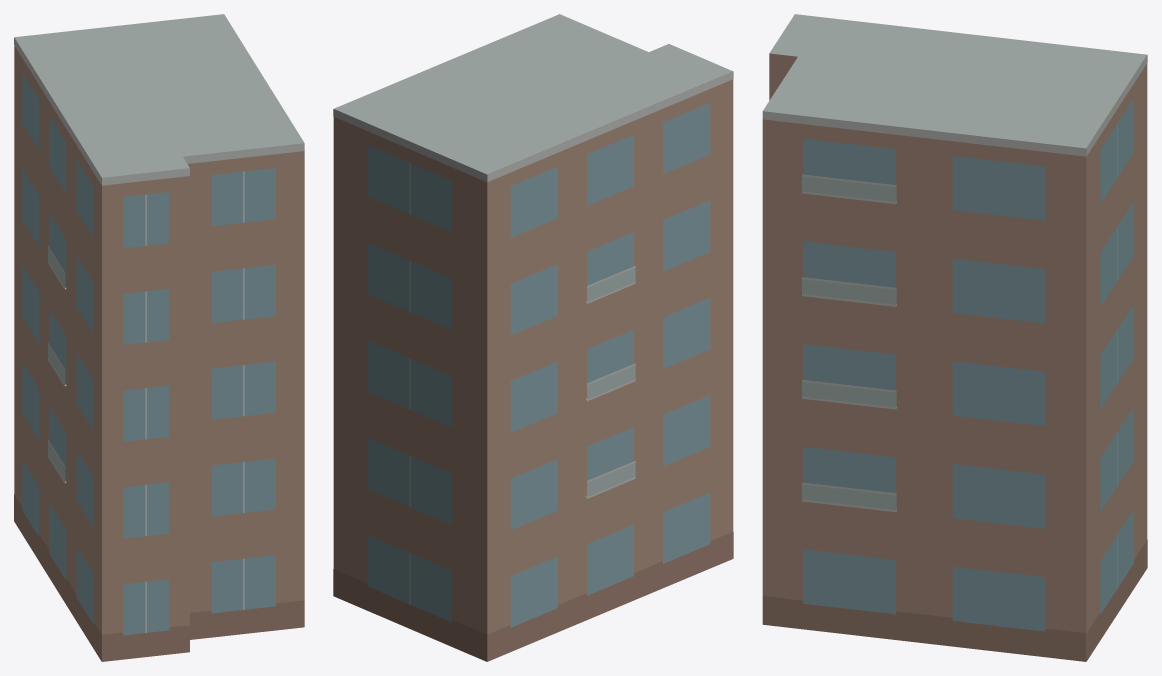
File: survey-upis-32583973.glb
3 views of the same model, side by side, from view 1: azimuth 30°, elevation 25°; view 2: azimuth 150°, elevation 25°; view 3: azimuth 270°, elevation 25° (orthographic). The views are drawn at different scales.
Visible parts, largest first — view 1: survey-upis-32583973.tmp; view 2: survey-upis-32583973.tmp; view 3: survey-upis-32583973.tmp.
Boxes of the visible parts, box(x1,y1,x2,y2) form: survey-upis-32583973.tmp: box(14, 14, 304, 661); survey-upis-32583973.tmp: box(333, 14, 733, 661); survey-upis-32583973.tmp: box(762, 14, 1147, 661).
Bounding box in the file's own units: 8.57 × 15.25 × 10.37.
